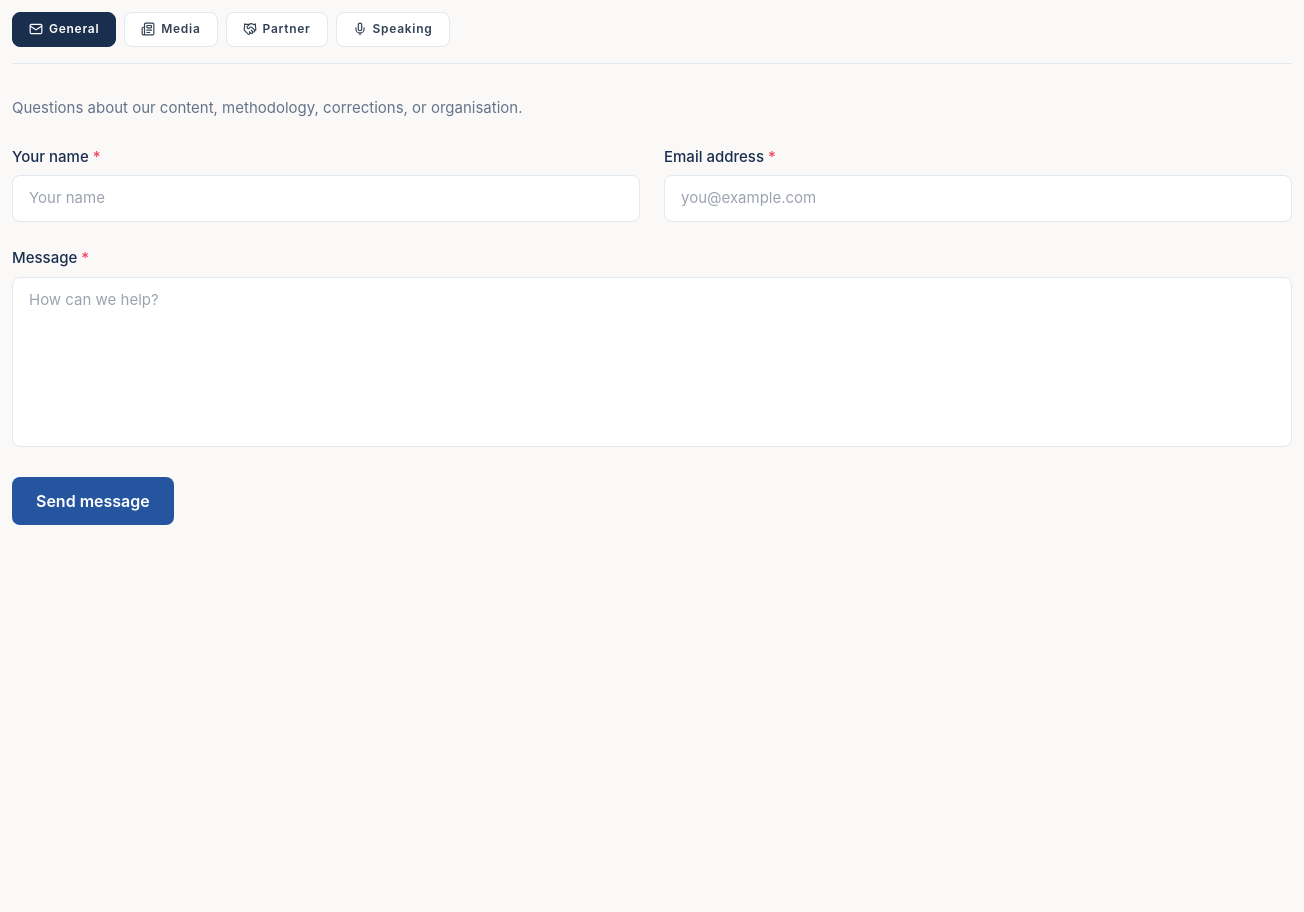
Scenario: ContactForms › switches to partner form tab
Step 1. Click the button "Partner" → click(276, 29), box [226,12,328,47]
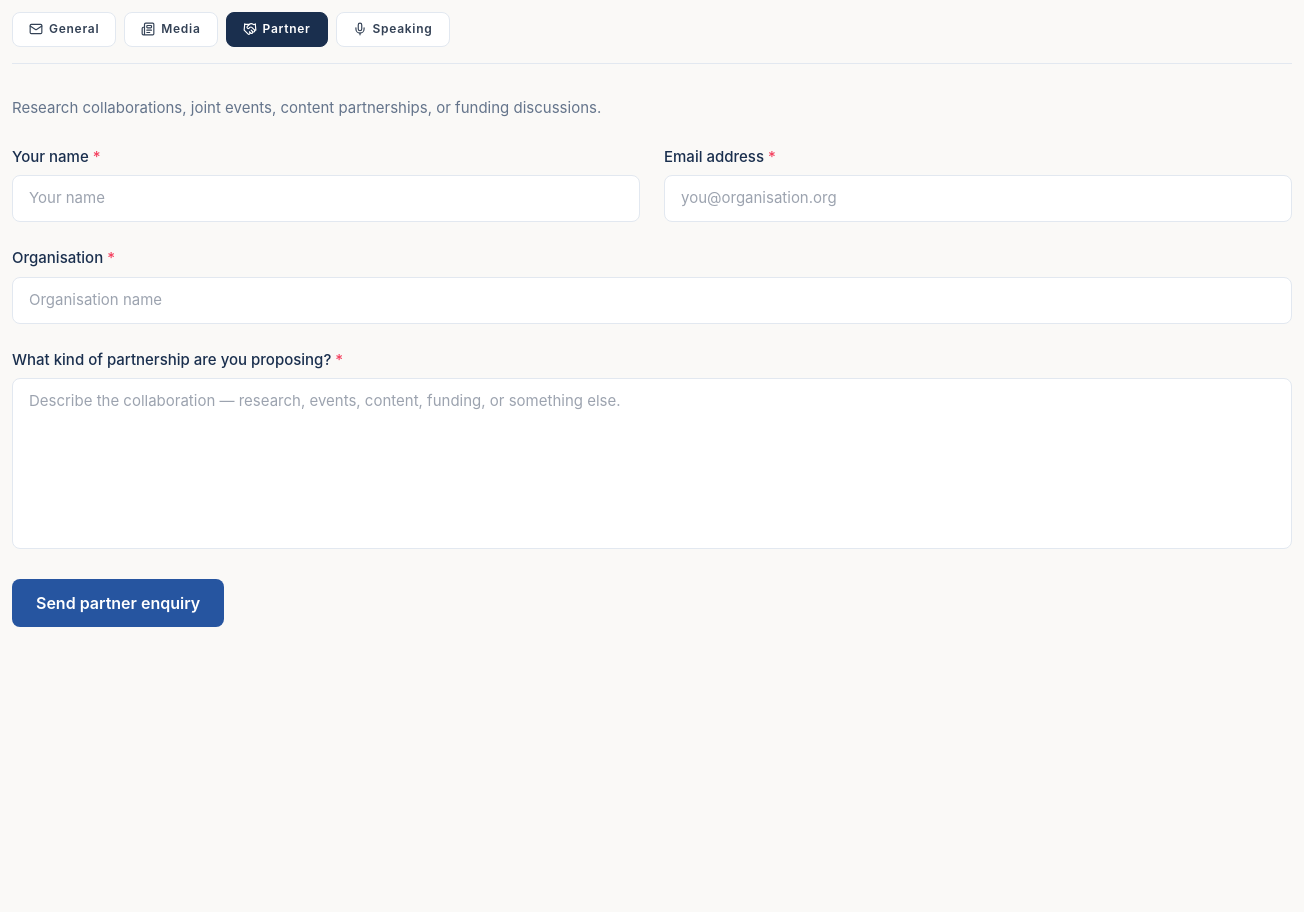
Check: the text box labelled "What kind of partnership are you proposing?*" is shown, box [12,378,1292,549]
